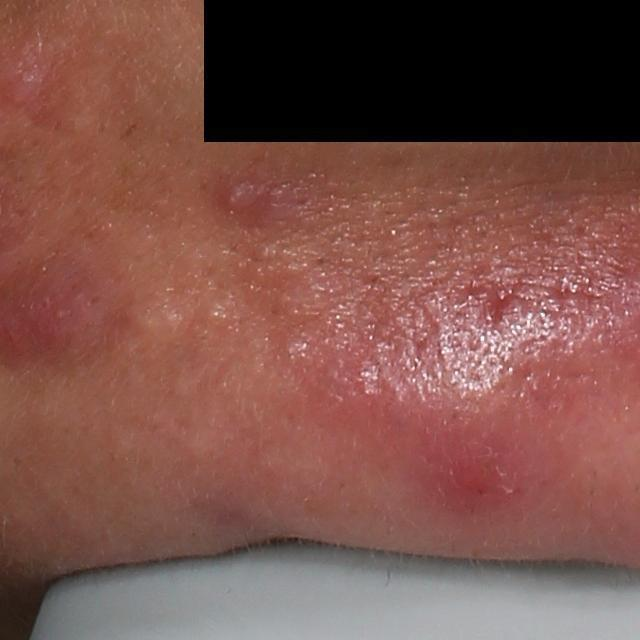hypertrophic_scar: (122, 287, 190, 340), (200, 299, 237, 336)
nodule: (354, 338, 579, 531)
papule: (218, 169, 269, 222)
